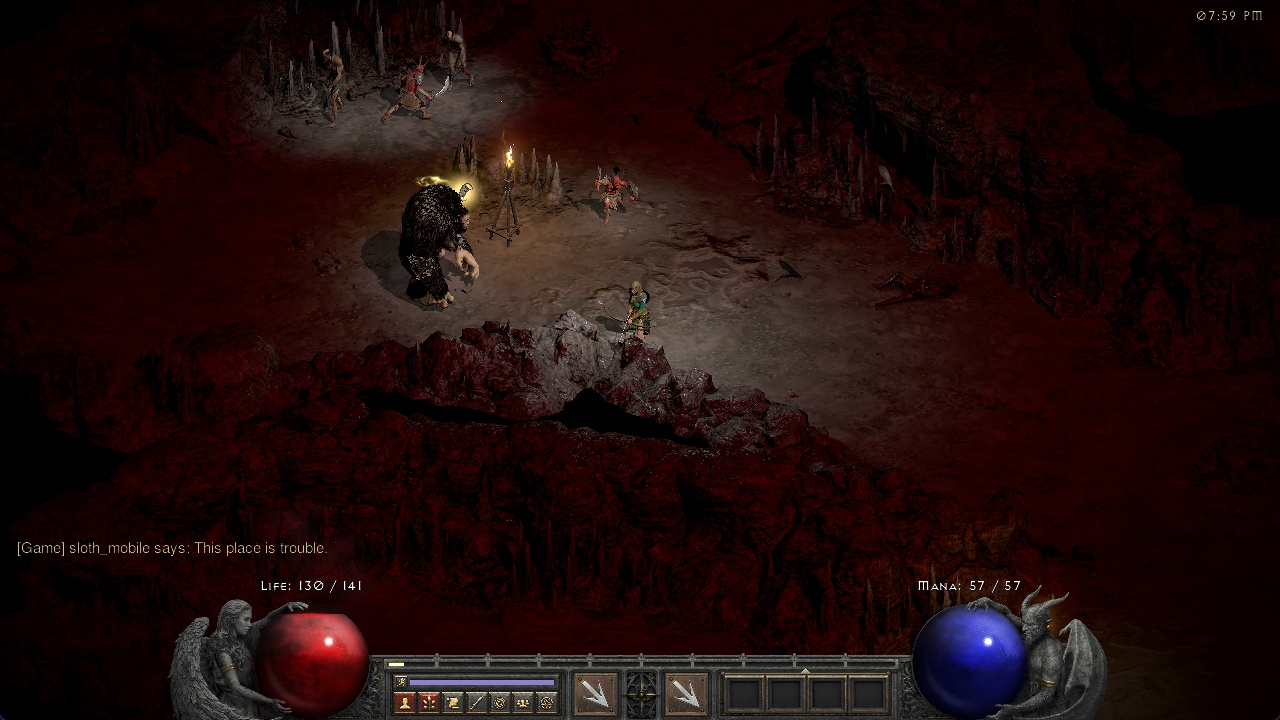fallen: (592, 164, 641, 219)
